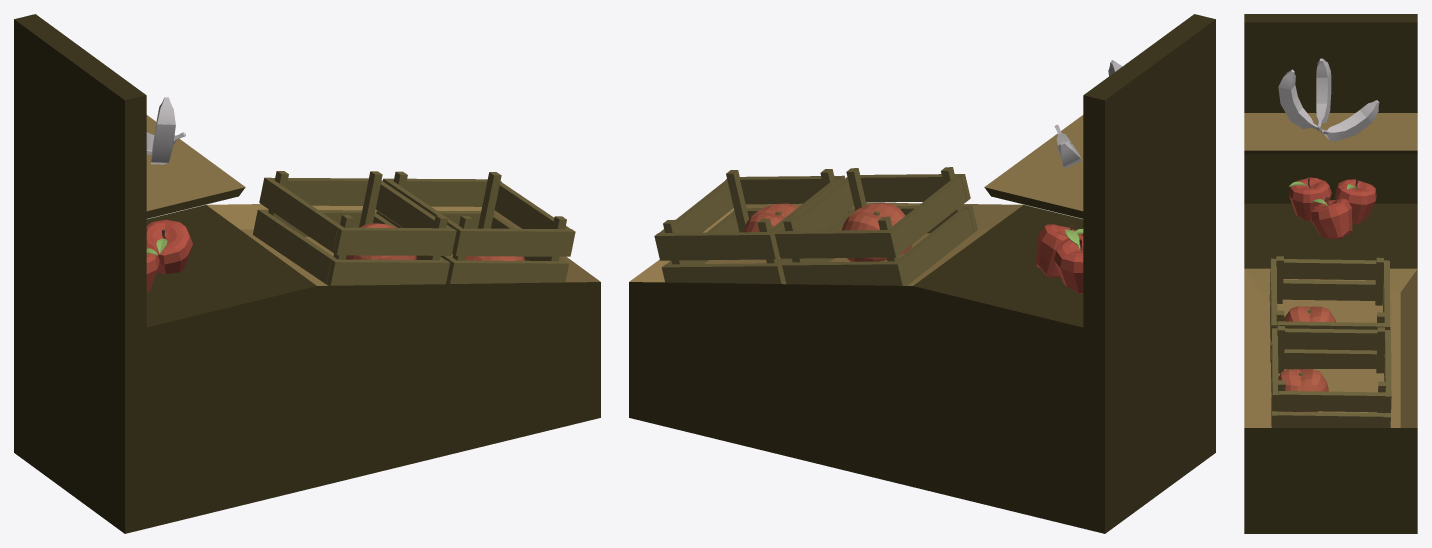
File: shelvesGrocery2.fbx
The picture shows the model from 3 angles, left to right: view 1: azimuth 30°, elevation 25°; view 2: azimuth 150°, elevation 25°; view 3: azimuth 270°, elevation 25°; orthographic projection. The views are drawn at different scales.
Visible parts, largest first — view 1: peach_Roundcube.006; view 2: peach_Roundcube.006; view 3: peach_Roundcube.006.
Part boxes in pixels (x1,y1,x2,y2): peach_Roundcube.006: (14, 14, 600, 533); peach_Roundcube.006: (629, 14, 1215, 533); peach_Roundcube.006: (1244, 14, 1417, 533).
Size of the model in its own units: 2022 by 1759 by 816.
